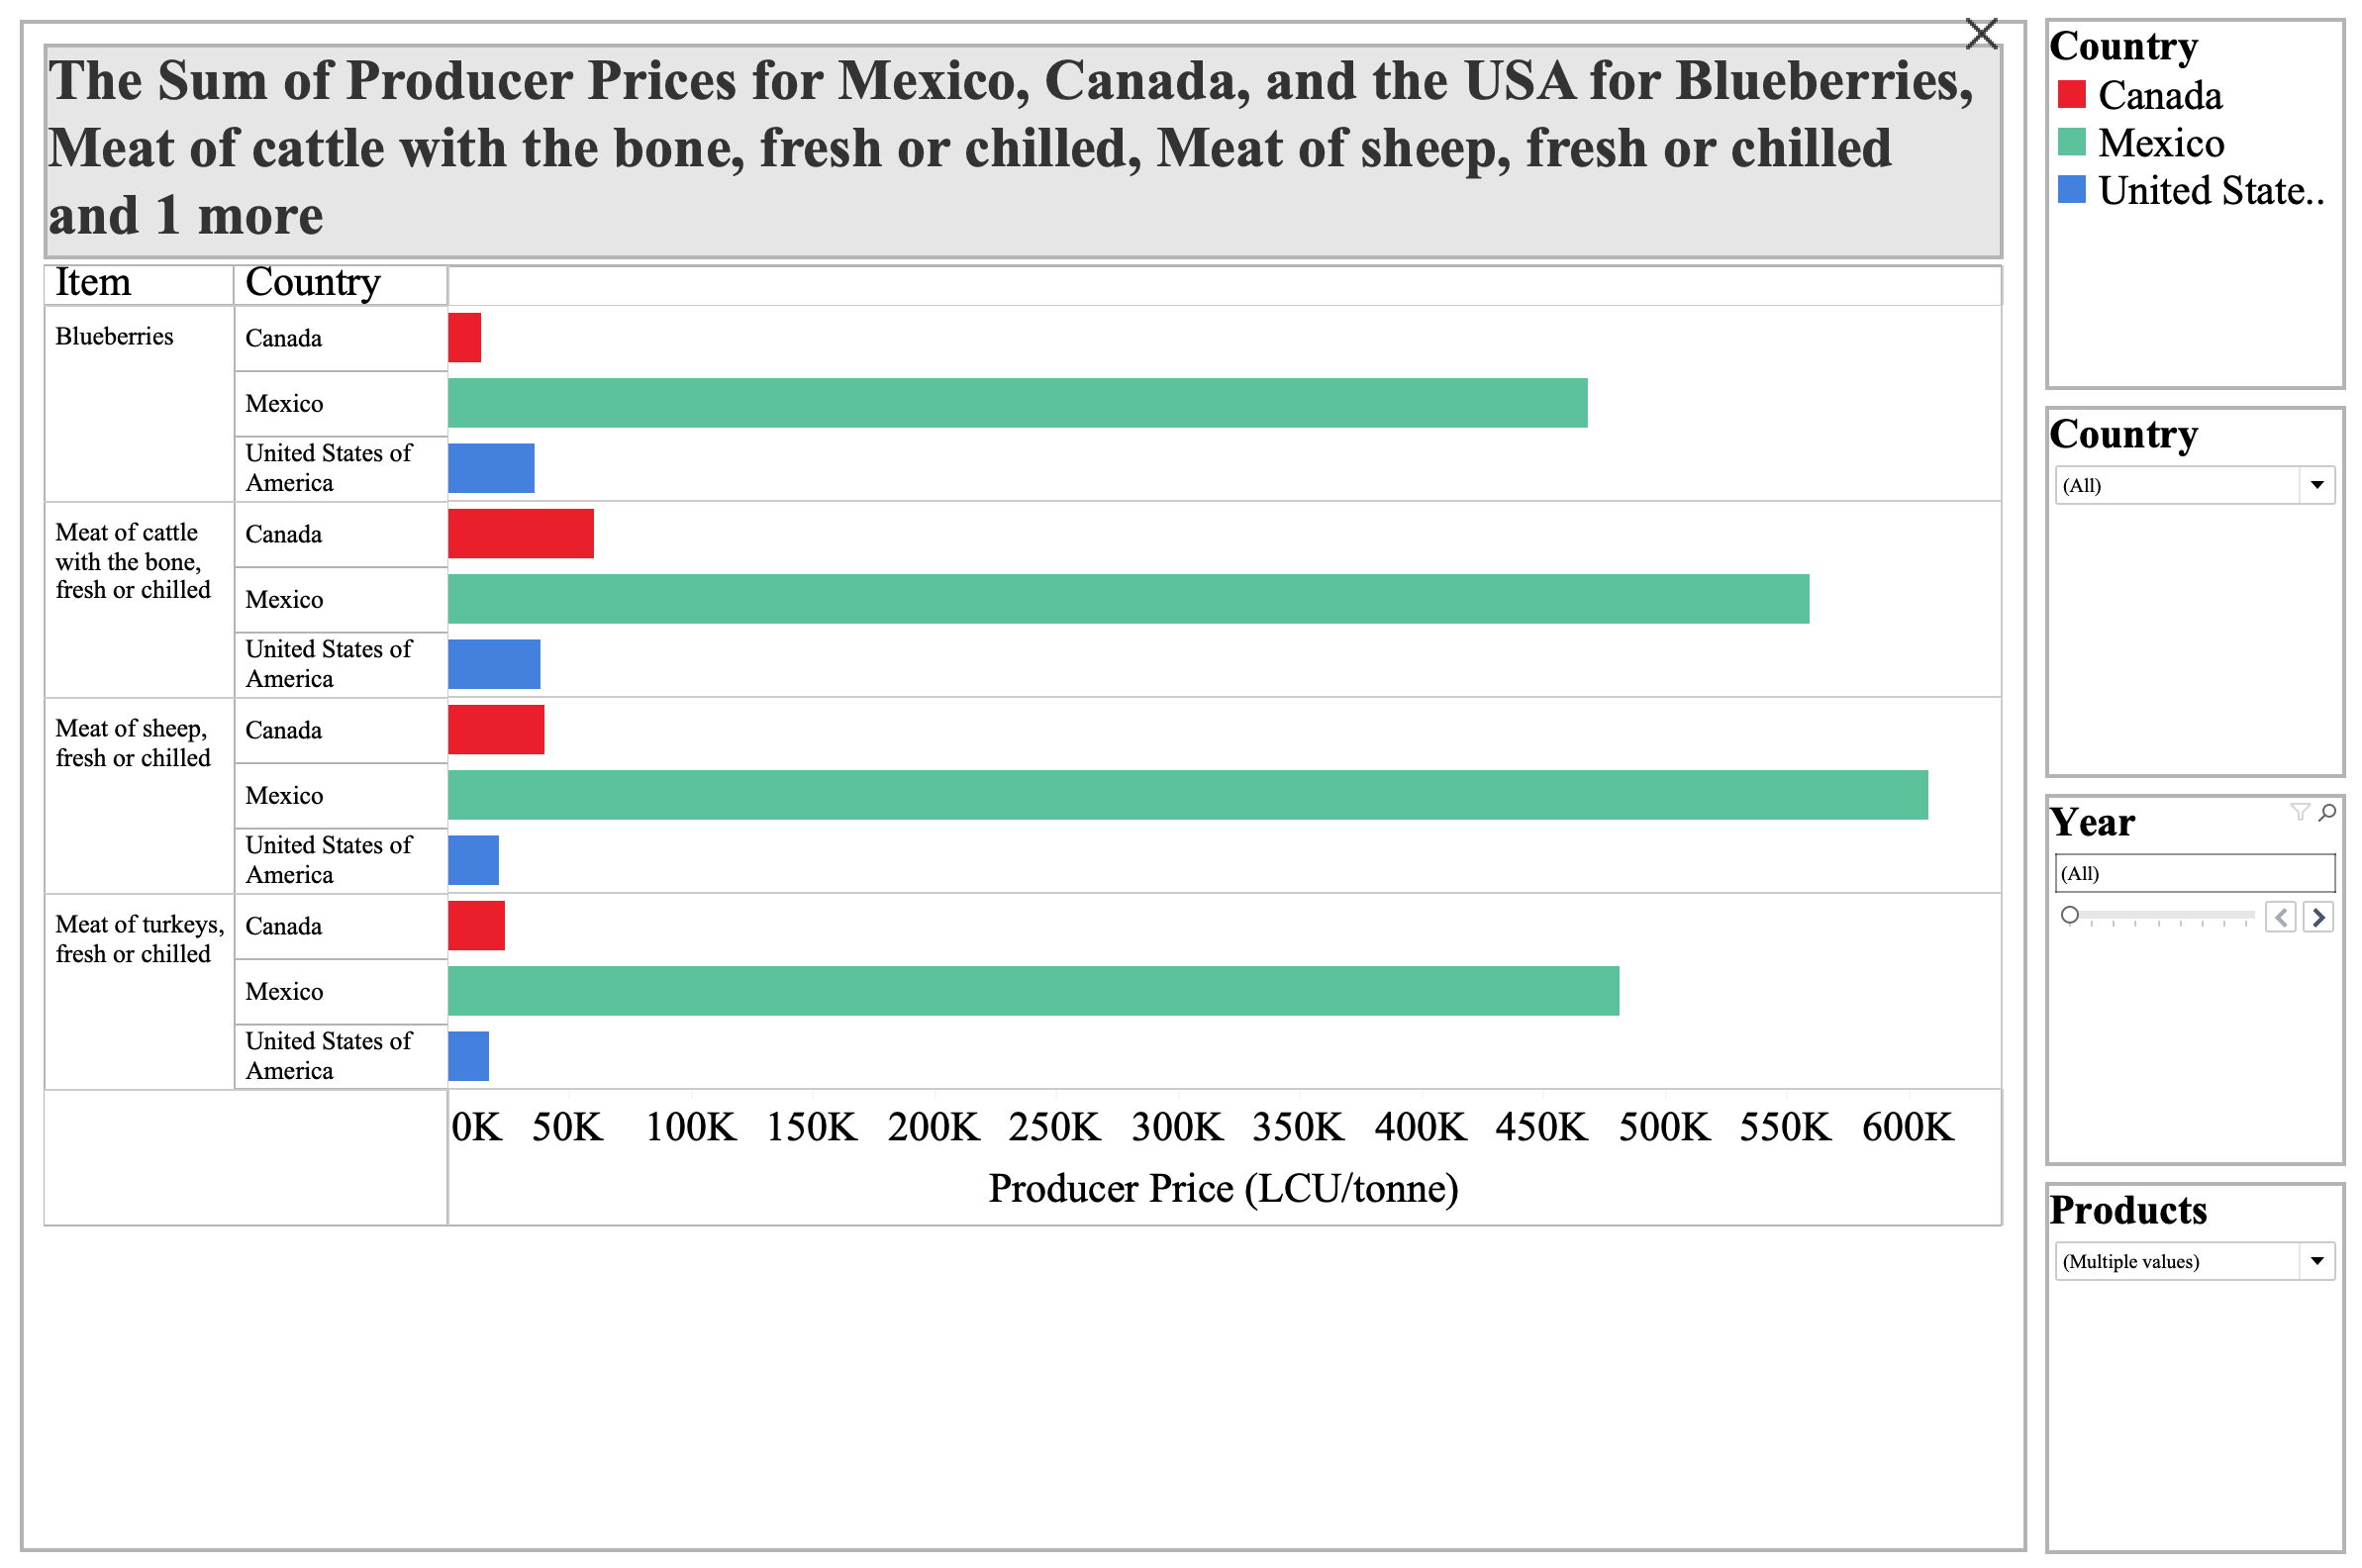

Layout of this report page (visuals, bound fields, positions):
{"tool":"tableau","page":{"name":"Dashboard 1","canvas":[1200,800],"ordinal":0},"visuals":[{"type":"worksheet","title":"yield","mark":"Bar","rows":["Value"],"cols":["Area","Year"],"box":[8,8,1024,784]},{"type":"filter","title":"yield","param":"[federated.0fg16zw1x0l6lv1b036w90icsjen].[none:area:nk]","box":[1032,8,160,108]},{"type":"filter","title":"yield","param":"[federated.0vianxe0iyll5417yi61e03wm1ru].[none:Item:nk]","box":[1032,116,160,590]},{"type":"legend","title":"yield","param":"[federated.0z5opef0cm133o11jrrv90n5jtt2].[none:Country:nk]","box":[1032,706,160,86]}]}

Visuals, with their boxes in screenshot pixels (x1, y1, x2, y2), scaled from the page's 1200x800 canvas onto the 2362x1568 screenshot:
"yield" worksheet (Bar marks): <box>16,16,2031,1552</box>
"yield" filter: <box>2031,16,2346,228</box>
"yield" filter: <box>2031,228,2346,1384</box>
"yield" legend: <box>2031,1384,2346,1552</box>
